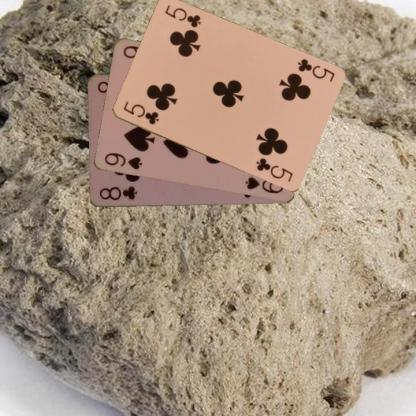5c: (294, 56, 336, 84), (120, 98, 160, 126)
8c: (97, 184, 138, 202)
9s: (102, 150, 143, 173)
